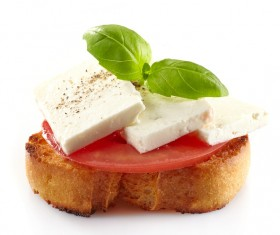slice of bread: (24, 156, 251, 212)
